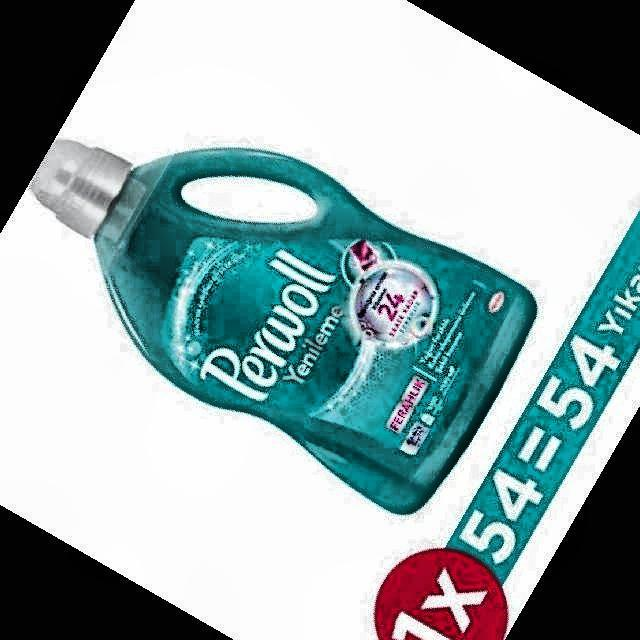plastic: (32, 140, 536, 513)
